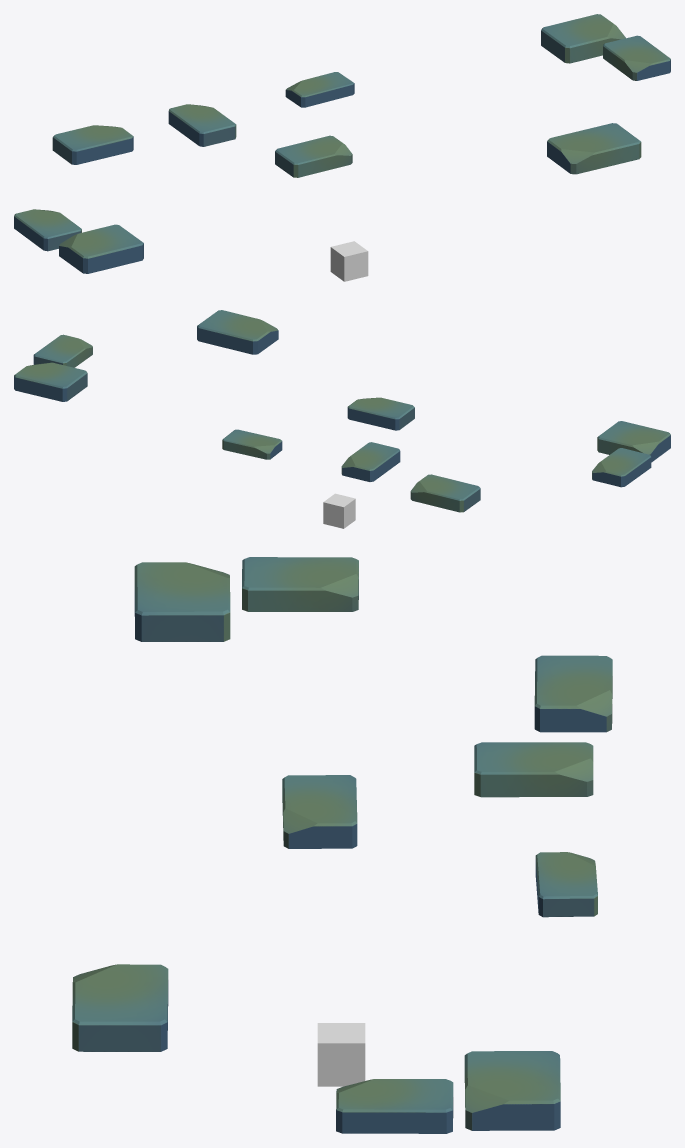
Rendered from battlescence-1-floor012.fbx.
3 views of the same model, one above another, from view 1: azimuth 30°, elevation 25°; view 2: azimuth 150°, elevation 25°; view 3: azimuth 270°, elevation 25° (orthographic). The views are drawn at different scales.
Parts seen in each view (by area): view 1: Cube.033, Cube.043, Cube.021, Cube.045, Cube.051, Cube.024, Cube.055, Cube.044, Cube.036, battlescence-1-floor012; view 2: Cube.033, Cube.021, Cube.043, Cube.045, Cube.051, Cube.055, Cube.044, Cube.024, Cube.036, battlescence-1-floor012; view 3: Cube.033, Cube.021, Cube.043, Cube.055, Cube.044, Cube.024, Cube.045, Cube.051, Cube.036, battlescence-1-floor012.
Boxes of the visible parts, <box> form: Cube.033: <box>547,123,641,174</box>; Cube.043: <box>59,224,143,273</box>; Cube.021: <box>541,14,625,63</box>; Cube.045: <box>52,125,133,164</box>; Cube.051: <box>275,135,352,177</box>; Cube.024: <box>603,35,670,80</box>; Cube.055: <box>168,104,236,146</box>; Cube.044: <box>14,209,81,251</box>; Cube.036: <box>285,72,354,107</box>; battlescence-1-floor012: <box>330,241,368,281</box>; Cube.033: <box>197,310,278,354</box>; Cube.021: <box>14,362,87,401</box>; Cube.043: <box>597,421,670,462</box>; Cube.045: <box>410,474,480,512</box>; Cube.051: <box>347,397,414,430</box>; Cube.055: <box>341,442,400,481</box>; Cube.044: <box>592,448,651,487</box>; Cube.024: <box>33,334,92,367</box>; Cube.036: <box>222,429,282,459</box>; battlescence-1-floor012: <box>323,493,355,528</box>; Cube.033: <box>72,964,168,1051</box>; Cube.021: <box>464,1051,560,1130</box>; Cube.043: <box>134,562,230,641</box>; Cube.055: <box>474,742,593,797</box>; Cube.044: <box>242,557,358,611</box>; Cube.024: <box>336,1079,453,1133</box>; Cube.045: <box>534,655,612,732</box>; Cube.051: <box>282,775,357,848</box>; Cube.036: <box>535,852,597,917</box>; battlescence-1-floor012: <box>317,1023,365,1086</box>.
Bounding box in the file's own units: 3087 × 628 × 1272.
